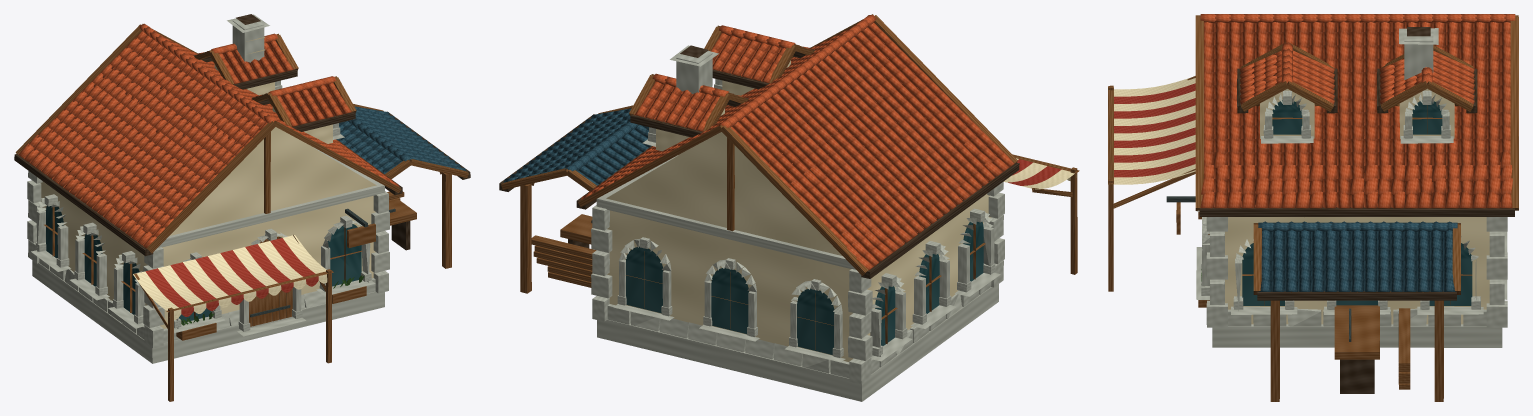
Rendered from carpenter_workshop.glb.
3 renders of one model, left to right at view 1: azimuth 30°, elevation 25°; view 2: azimuth 150°, elevation 25°; view 3: azimuth 270°, elevation 25°, orthographic. The views are drawn at different scales.
Parts seen in each view (by area): view 1: carpenter_workshop_Roof.001, carpenter_workshop_Structure.001, carpenter_workshop_Joinery.001, carpenter_workshop_Cloth.001, carpenter_workshop_Detail.001, carpenter_workshop_Glazing.001; view 2: carpenter_workshop_Roof.001, carpenter_workshop_Structure.001, carpenter_workshop_Joinery.001, carpenter_workshop_Detail.001, carpenter_workshop_Glazing.001, carpenter_workshop_Cloth.001; view 3: carpenter_workshop_Roof.001, carpenter_workshop_Joinery.001, carpenter_workshop_Structure.001, carpenter_workshop_Cloth.001, carpenter_workshop_Detail.001, carpenter_workshop_Glazing.001.
Part boxes in pixels (bbox=[...]): carpenter_workshop_Roof.001: bbox=[18, 23, 466, 248]; carpenter_workshop_Structure.001: bbox=[27, 14, 389, 363]; carpenter_workshop_Joinery.001: bbox=[14, 24, 470, 401]; carpenter_workshop_Cloth.001: bbox=[133, 235, 327, 319]; carpenter_workshop_Detail.001: bbox=[31, 80, 375, 336]; carpenter_workshop_Glazing.001: bbox=[46, 206, 361, 322]; carpenter_workshop_Roof.001: bbox=[503, 15, 1014, 270]; carpenter_workshop_Structure.001: bbox=[591, 45, 1004, 401]; carpenter_workshop_Joinery.001: bbox=[499, 14, 1079, 349]; carpenter_workshop_Detail.001: bbox=[613, 79, 1000, 362]; carpenter_workshop_Glazing.001: bbox=[626, 221, 983, 354]; carpenter_workshop_Cloth.001: bbox=[1003, 158, 1076, 189]; carpenter_workshop_Roof.001: bbox=[1200, 14, 1515, 291]; carpenter_workshop_Joinery.001: bbox=[1108, 15, 1518, 401]; carpenter_workshop_Structure.001: bbox=[1206, 27, 1507, 347]; carpenter_workshop_Cloth.001: bbox=[1113, 77, 1195, 184]; carpenter_workshop_Detail.001: bbox=[1196, 90, 1507, 314]; carpenter_workshop_Glazing.001: bbox=[1242, 100, 1472, 305].
Size of the model in its own units: 10.51 by 6.56 by 8.52.
4 materials, 4 textured.
